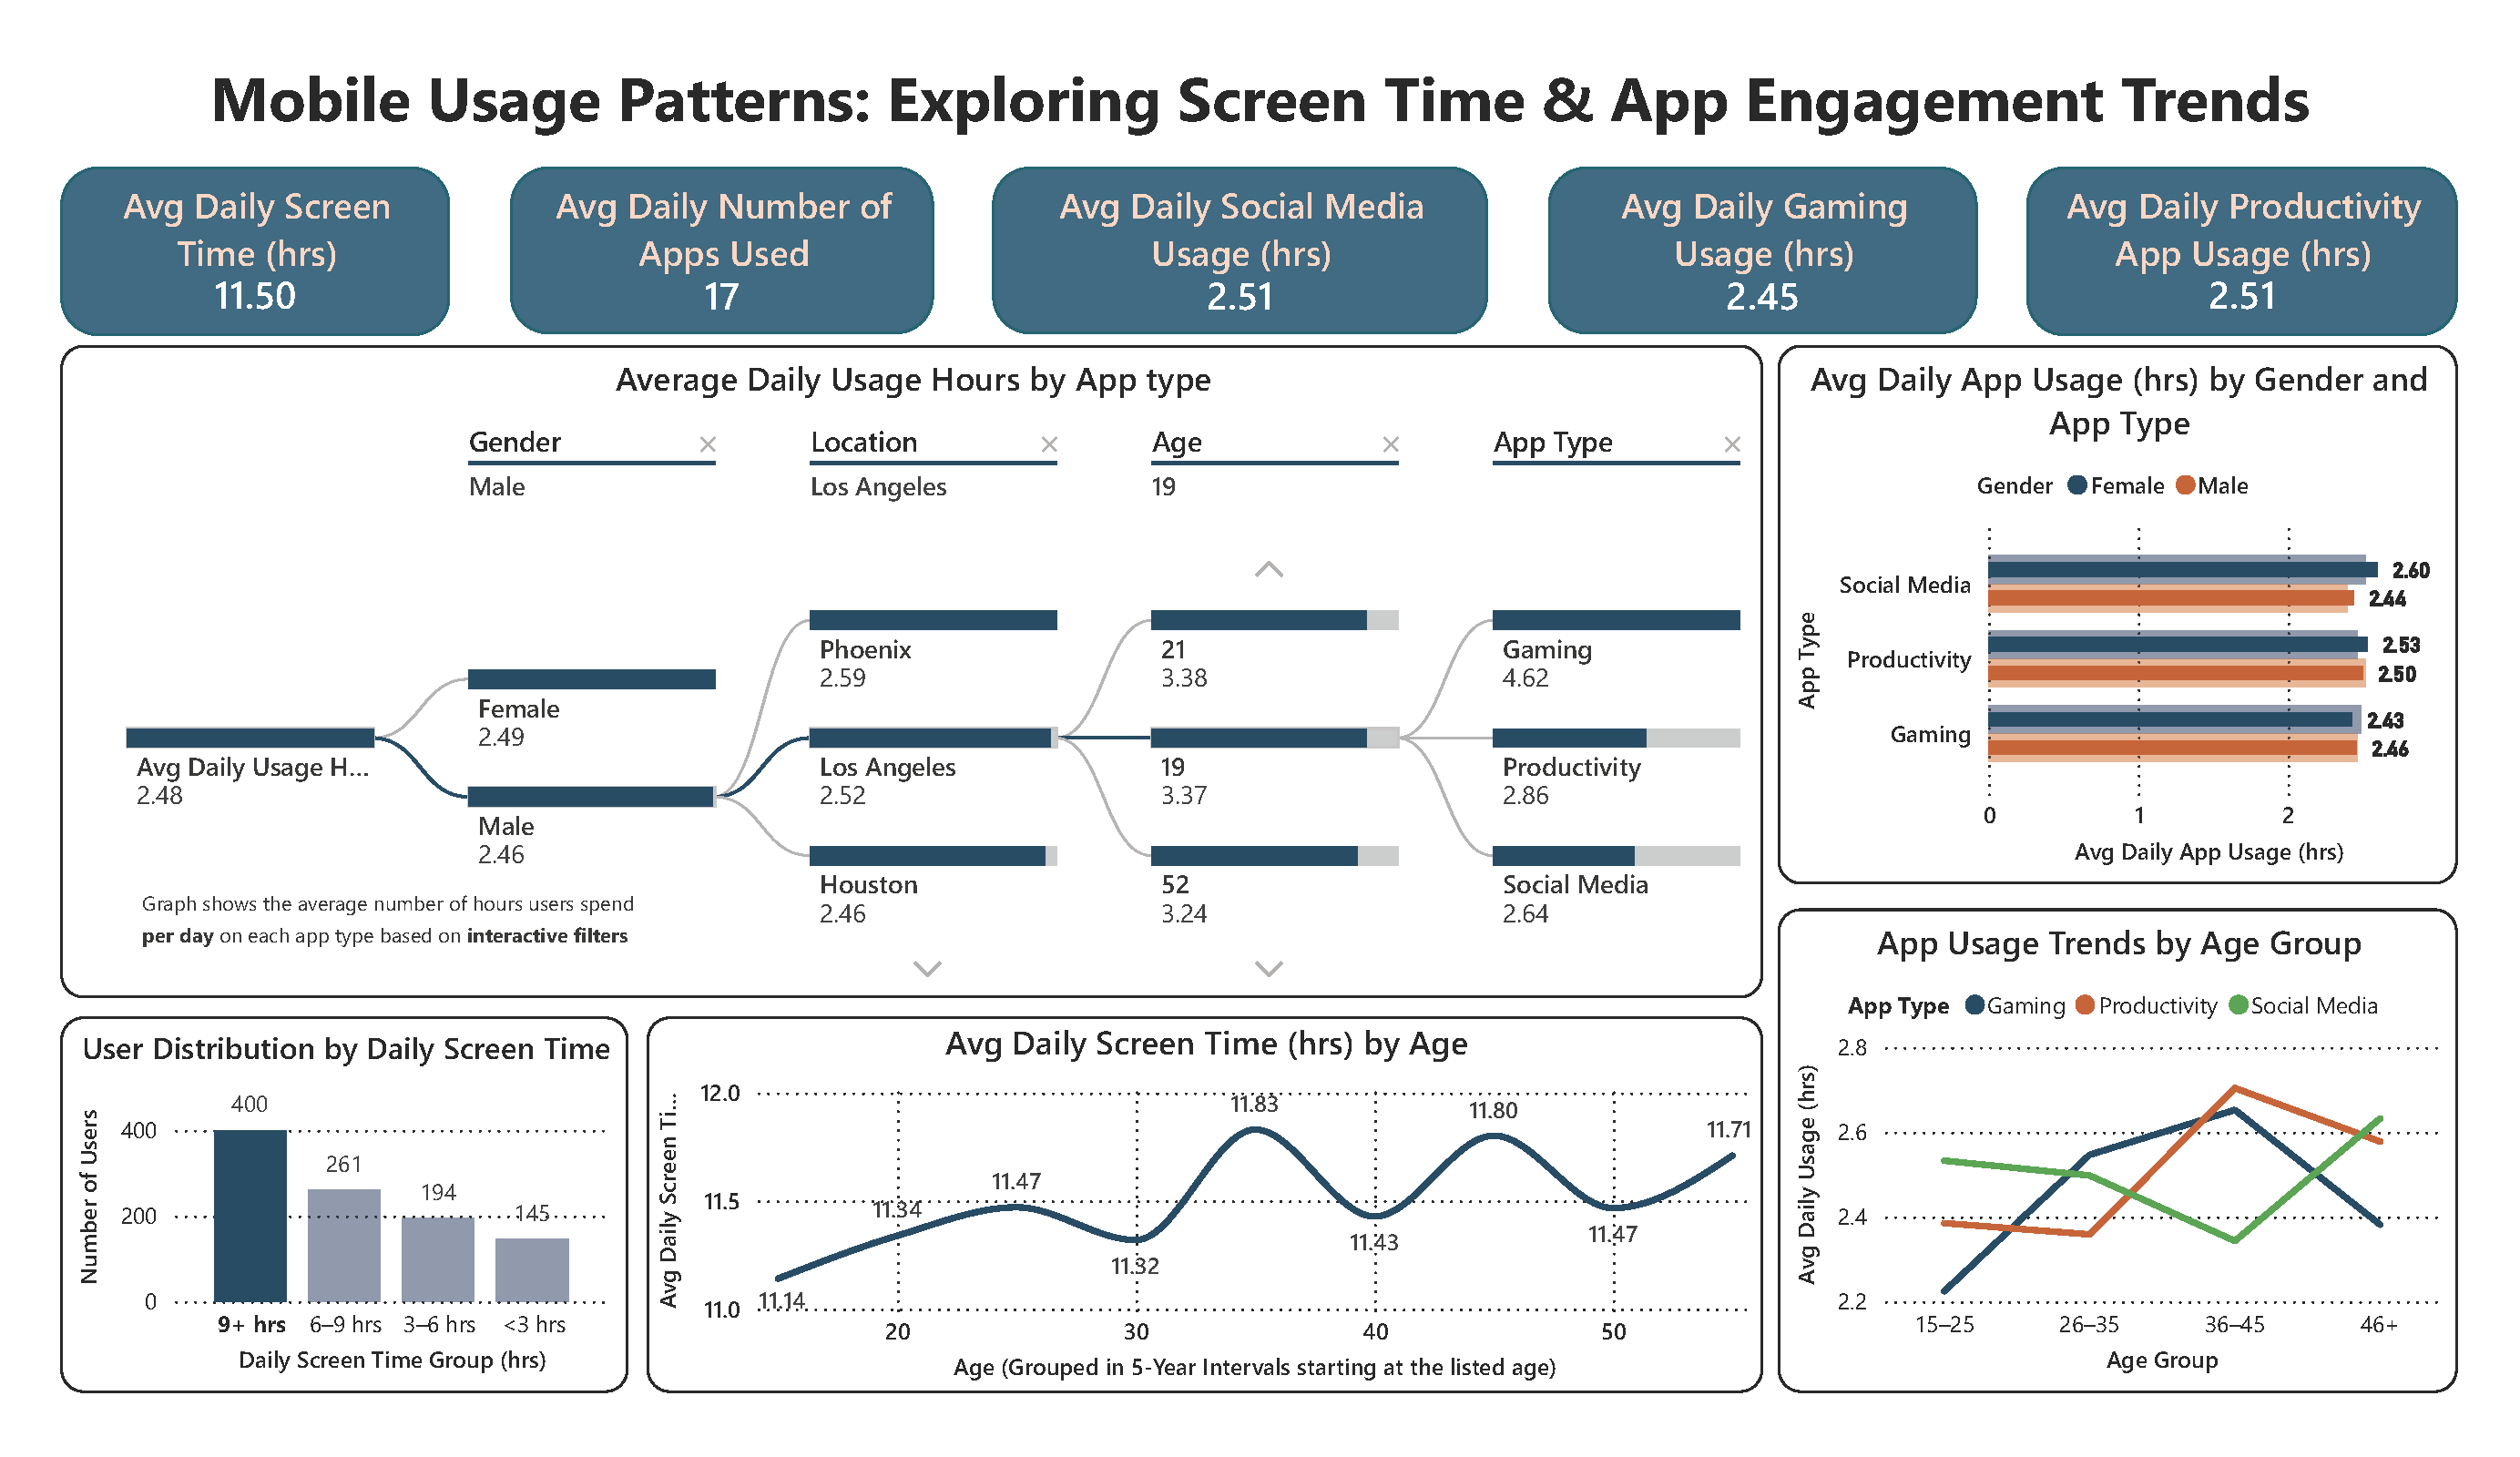

What the dashboard file says about the page in this screenshot:
{"tool":"powerbi","page":{"name":"Page 1","canvas":[1280,720],"ordinal":0},"visuals":[{"type":"textbox","box":[0,0,1280,75.8],"z":0},{"type":"decompositionTreeVisual","title":"Average Daily Usage Hours by App type","fields":{"ExplainBy":["mobile_usage_behavioral_analysis.Gender","mobile_usage_behavioral_analysis.Location","mobile_usage_behavioral_analysis.Age","App_Usage_By_Type.App_Usage_Type"],"Analyze":["App_Usage_By_Type.Avg Daily Usage Hours by App Type"]},"box":[8.1,157.6,897.3,343.9],"z":0,"group":"g1"},{"type":"card","title":"Avg Daily Screen Time (hrs)","fields":{"Values":["Avg(mobile_usage_behavioral_analysis.Daily_Screen_Time_Hours)"]},"box":[8.1,63.6,205.1,89],"z":1000},{"type":"card","title":"Avg Daily Number of Apps Used","fields":{"Values":["Avg(mobile_usage_behavioral_analysis.Number_of_Apps_Used)"]},"box":[245.4,63.6,223,88.7],"z":2000},{"type":"card","title":"Avg Daily Social Media Usage (hrs)","fields":{"Values":["Avg(mobile_usage_behavioral_analysis.Social_Media_Usage_Hours)"]},"box":[499,63.6,260.6,88.7],"z":3000},{"type":"card","title":"Avg Daily Productivity App Usage (hrs)","fields":{"Values":["Avg(mobile_usage_behavioral_analysis.Productivity_App_Usage_Hours)"]},"box":[1044.2,63.6,226.6,89],"z":4000},{"type":"card","title":"Avg Daily Gaming Usage (hrs)","fields":{"Values":["Avg(mobile_usage_behavioral_analysis.Gaming_App_Usage_Hours)"]},"box":[791.6,63.6,226.6,88.7],"z":5000},{"type":"lineChart","title":"Avg Daily Screen Time (hrs) by Age","fields":{"Y":["Avg(mobile_usage_behavioral_analysis.Daily_Screen_Time_Hours)"],"Category":["mobile_usage_behavioral_analysis.Age (bins)"]},"box":[317,512.2,588.4,197.9],"z":6000},{"type":"clusteredColumnChart","title":"User Distribution by Daily Screen Time","fields":{"Category":["mobile_usage_behavioral_analysis.ScreenTimeGroup"],"Y":["CountNonNull(mobile_usage_behavioral_analysis.User_ID)"]},"box":[8.1,512.2,299.1,197.9],"z":7000},{"type":"clusteredBarChart","title":"Avg Daily App Usage (hrs) by Gender and App Type","fields":{"Category":["App_Usage_By_Type.App Type"],"Y":["Avg(App_Usage_By_Type.Usage_Hours)"],"Series":["GenderLookup.Gender"]},"box":[913.4,157.6,357.3,284.8],"z":8000},{"type":"lineChart","title":"App Usage Trends by Age Group","fields":{"Y":["Avg(App_Usage_By_Type.Usage_Hours)"],"Series":["App_Usage_By_Type.App Type"],"Category":["App_Usage_By_Type.Age_Group"]},"box":[913.4,454.9,357.3,255.2],"z":9000},{"type":"textbox","box":[45.9,436.5,281.6,61.4],"z":11000,"group":"g1"},{"type":"group","id":"g1","title":"Group 1","box":[8.1,157.6,897.3,343.9],"z":11001}]}

Visuals, with their boxes in screenshot pixels (x1, y1, x2, y2):
textbox: BBox(59, 46, 2456, 188)
"Average Daily Usage Hours by App type" decompositionTreeVisual: BBox(75, 341, 1755, 985)
"Avg Daily Screen Time (hrs)" card: BBox(75, 165, 458, 331)
"Avg Daily Number of Apps Used" card: BBox(518, 165, 936, 331)
"Avg Daily Social Media Usage (hrs)" card: BBox(994, 165, 1482, 331)
"Avg Daily Productivity App Usage (hrs)" card: BBox(2015, 165, 2439, 331)
"Avg Daily Gaming Usage (hrs)" card: BBox(1542, 165, 1966, 331)
"Avg Daily Screen Time (hrs) by Age" lineChart: BBox(653, 1005, 1755, 1376)
"User Distribution by Daily Screen Time" clusteredColumnChart: BBox(75, 1005, 635, 1376)
"Avg Daily App Usage (hrs) by Gender and App Type" clusteredBarChart: BBox(1770, 341, 2439, 874)
"App Usage Trends by Age Group" lineChart: BBox(1770, 898, 2439, 1376)
textbox: BBox(145, 863, 672, 978)
"Group 1" group: BBox(75, 341, 1755, 985)
